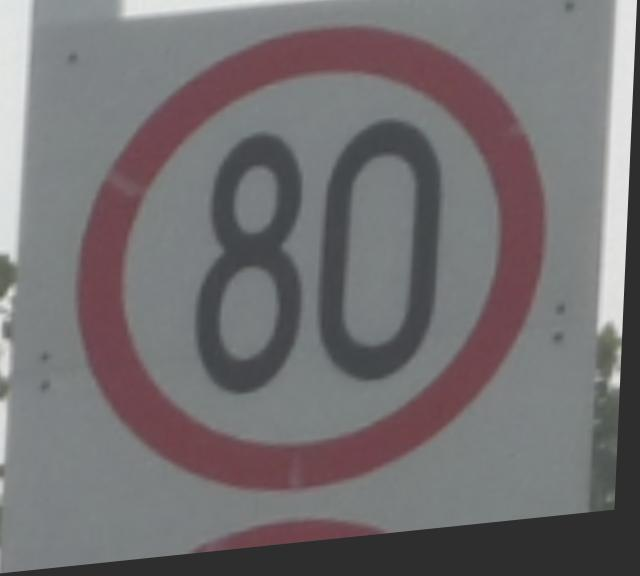limit80: (55, 0, 571, 529)
